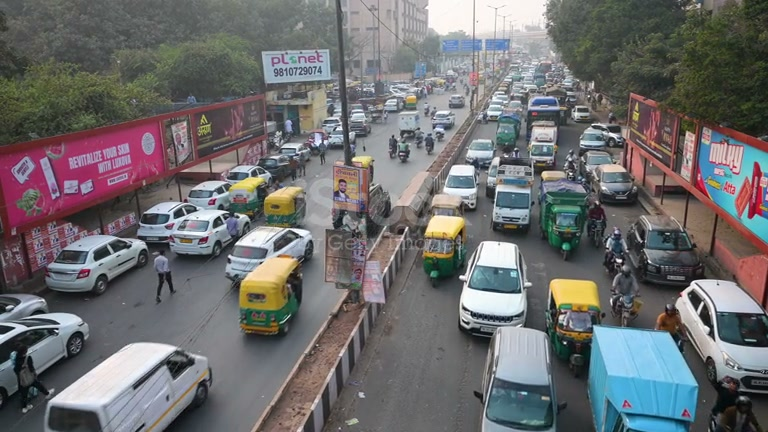bus: (526, 96, 563, 131)
car: (43, 341, 214, 429), (671, 278, 768, 396), (477, 326, 564, 432), (0, 311, 91, 409), (457, 240, 529, 338), (45, 234, 149, 296), (626, 214, 706, 285), (224, 225, 315, 285), (238, 257, 305, 335), (545, 278, 604, 362), (167, 209, 251, 258), (136, 200, 203, 243), (441, 163, 480, 211), (263, 185, 308, 226), (594, 165, 639, 205), (212, 187, 265, 217), (0, 293, 48, 321), (186, 180, 232, 208), (224, 164, 273, 189), (256, 154, 296, 182), (465, 138, 496, 168), (279, 142, 311, 167), (433, 110, 456, 129)
motorcycle: (610, 289, 642, 327)
pedestrian: (717, 395, 762, 432), (153, 249, 176, 303), (610, 263, 639, 304), (603, 227, 628, 267)
truck: (585, 325, 701, 430), (421, 208, 468, 280)
